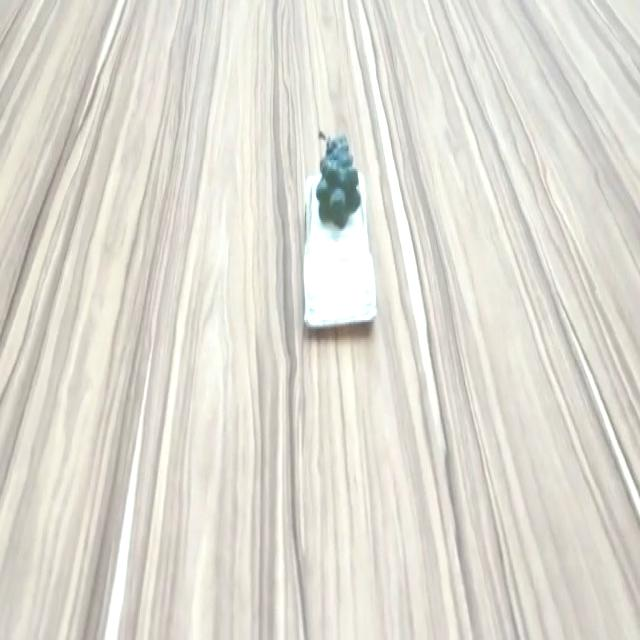car: (299, 175, 379, 324)
